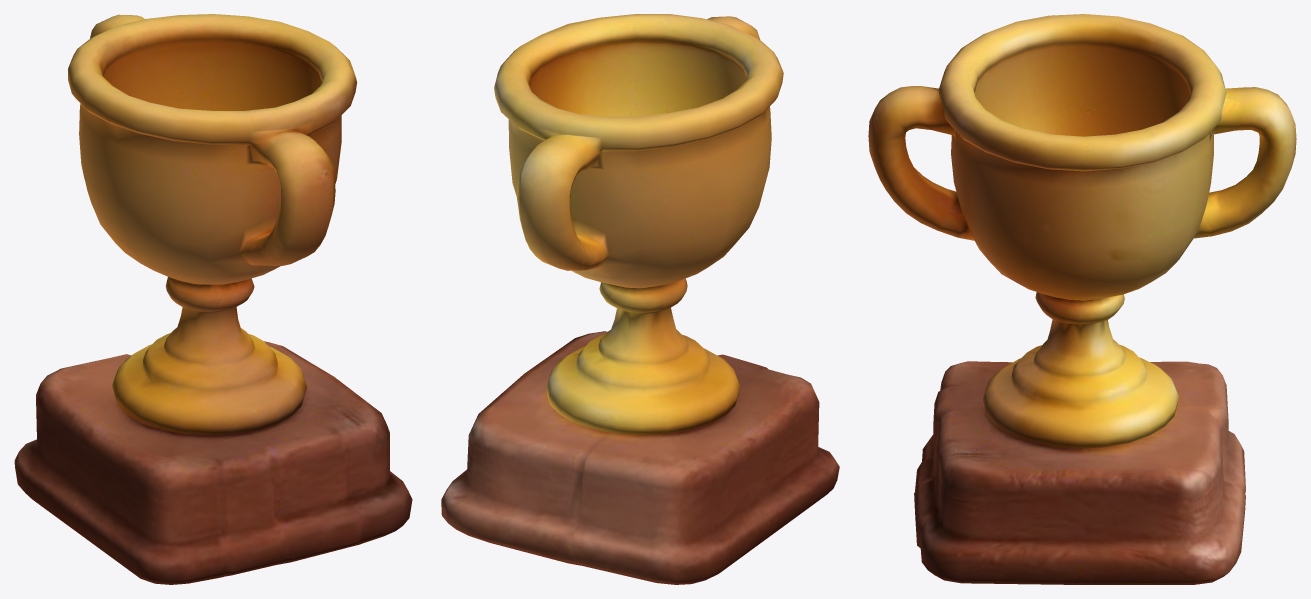
File: desk-ceo.glb
The picture shows the model from 3 angles, left to right: view 1: azimuth 30°, elevation 25°; view 2: azimuth 150°, elevation 25°; view 3: azimuth 270°, elevation 25°; orthographic projection.
Visible parts, largest first — view 1: tripo_node_fee3ae69-2e2e-46dc-b4ed-d6dd3ab50b78; view 2: tripo_node_fee3ae69-2e2e-46dc-b4ed-d6dd3ab50b78; view 3: tripo_node_fee3ae69-2e2e-46dc-b4ed-d6dd3ab50b78.
Part boxes in pixels (left/top/right/bottom): tripo_node_fee3ae69-2e2e-46dc-b4ed-d6dd3ab50b78: left=14, top=14, right=412, bottom=584; tripo_node_fee3ae69-2e2e-46dc-b4ed-d6dd3ab50b78: left=441, top=14, right=839, bottom=584; tripo_node_fee3ae69-2e2e-46dc-b4ed-d6dd3ab50b78: left=868, top=14, right=1296, bottom=584.
Size of the model in its own units: 0.6465 by 0.998 by 0.8613.
1 material, 1 textured.
